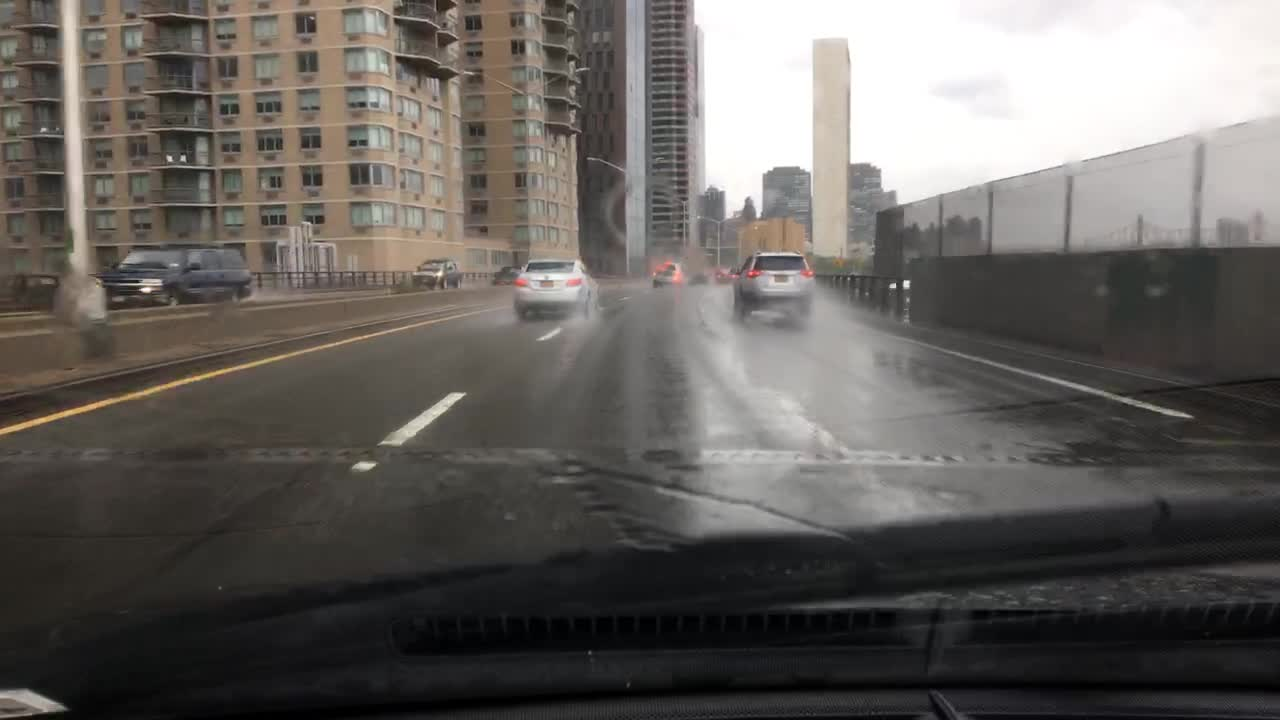car: (84, 243, 253, 310), (730, 251, 815, 319), (513, 260, 595, 320), (411, 256, 462, 290), (649, 260, 685, 288), (489, 265, 523, 285), (712, 261, 739, 282), (687, 272, 707, 283)
